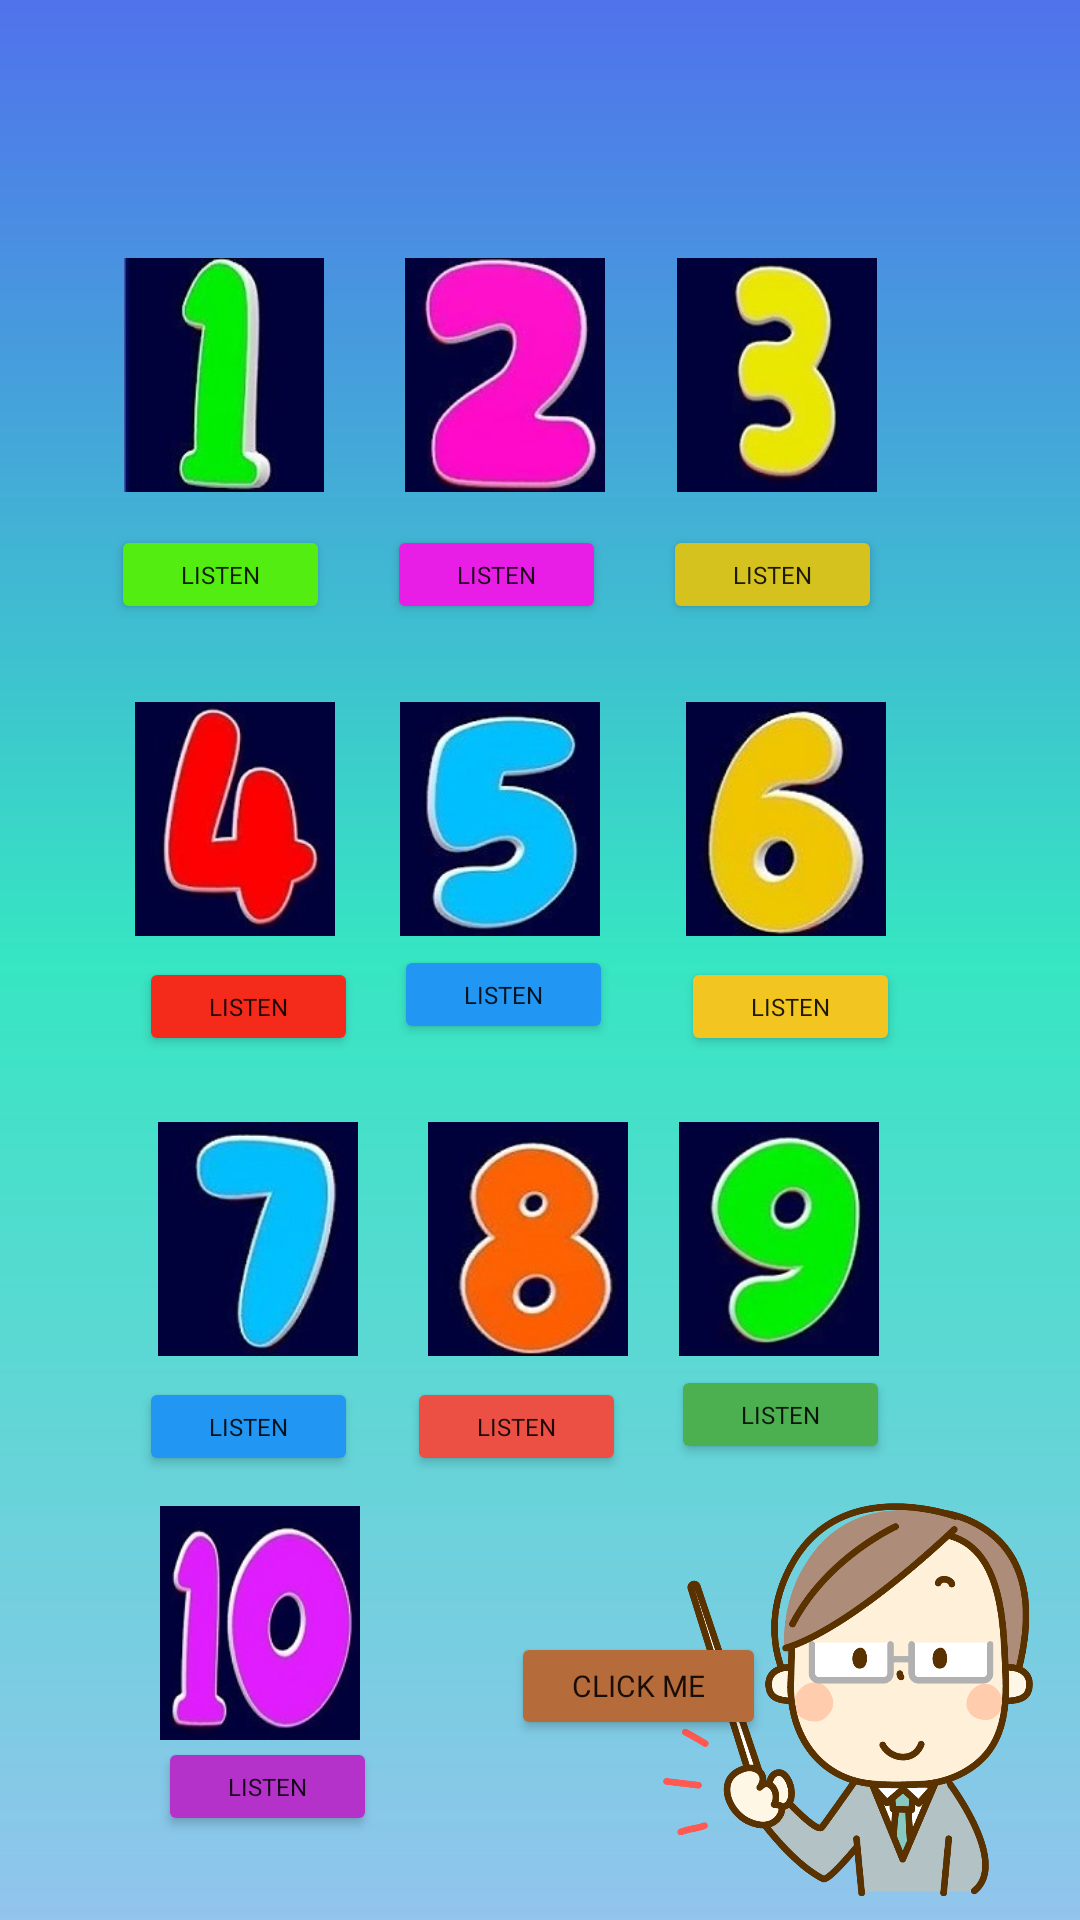

Icons on this 1080×1920 Android screen, each with its box as (x1, y1, x2, y2):
eight: (428, 1122, 628, 1356)
nine: (679, 1122, 879, 1356)
seven: (158, 1122, 358, 1356)
six: (663, 702, 909, 936)
ten: (160, 1506, 360, 1740)
